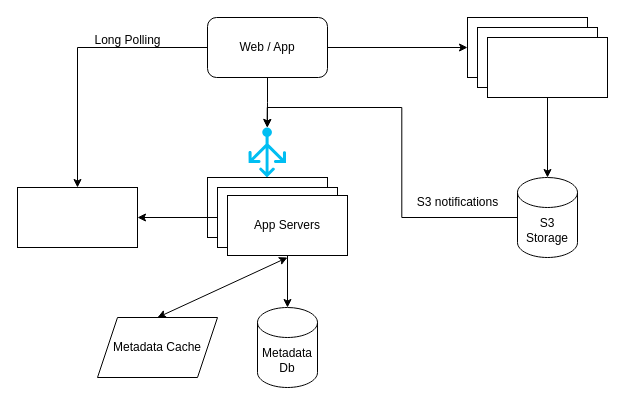
The diagram is 625 pixels wide and 405 high, and some of its shapes have lost their labels. Each missing label, with the centre of its shape:
"Block Servers" goes at point (547, 67).
"Sync Service" goes at point (77, 217).
